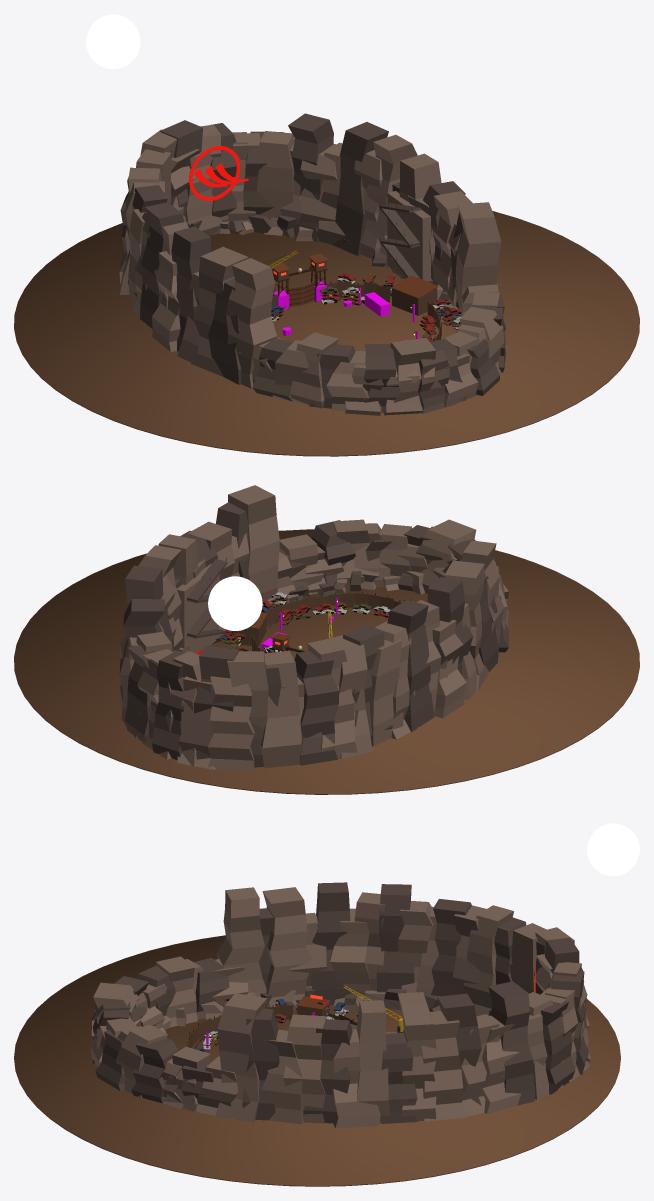
The model's file is ferro_velho.glb.
3 views of the same model, one above another, from view 1: azimuth 30°, elevation 25°; view 2: azimuth 150°, elevation 25°; view 3: azimuth 270°, elevation 25° (orthographic). The views are drawn at different scales.
Visible parts, largest first — view 1: GROUND_dirt, static_MAT_CLOTH_canyon_rock, static_MAT_CLOTH_canyon_rock_dark, moon, garage, static_MAT_EFFECT_claw_paint, static_MAT_CLOTH_corrugated_rust, static_MAT_METAL_rust_metal; view 2: GROUND_dirt, static_MAT_CLOTH_canyon_rock, static_MAT_CLOTH_canyon_rock_dark, moon, static_MAT_CLOTH_corrugated_rust, garage; view 3: static_MAT_CLOTH_canyon_rock, GROUND_dirt, static_MAT_CLOTH_canyon_rock_dark, moon, static_MAT_CLOTH_corrugated_rust, abrigo.
Boxes of the visible parts, <box> form: GROUND_dirt: <box>14,211,639,456</box>; static_MAT_CLOTH_canyon_rock: <box>119,124,506,415</box>; static_MAT_CLOTH_canyon_rock_dark: <box>120,113,505,413</box>; moon: <box>86,14,140,69</box>; garage: <box>390,275,438,315</box>; static_MAT_EFFECT_claw_paint: <box>189,146,248,200</box>; static_MAT_CLOTH_corrugated_rust: <box>271,259,440,341</box>; static_MAT_METAL_rust_metal: <box>270,253,328,306</box>; GROUND_dirt: <box>14,529,639,794</box>; static_MAT_CLOTH_canyon_rock: <box>119,485,508,770</box>; static_MAT_CLOTH_canyon_rock_dark: <box>119,502,508,767</box>; moon: <box>208,576,262,630</box>; static_MAT_CLOTH_corrugated_rust: <box>252,592,405,653</box>; garage: <box>231,612,267,646</box>; static_MAT_CLOTH_canyon_rock: <box>90,887,591,1128</box>; GROUND_dirt: <box>14,935,620,1186</box>; static_MAT_CLOTH_canyon_rock_dark: <box>91,882,588,1123</box>; moon: <box>587,823,639,876</box>; static_MAT_CLOTH_corrugated_rust: <box>188,1004,357,1047</box>; abrigo: <box>296,994,330,1016</box>.
Bounding box in the file's own units: 160 × 83.63 × 165.
